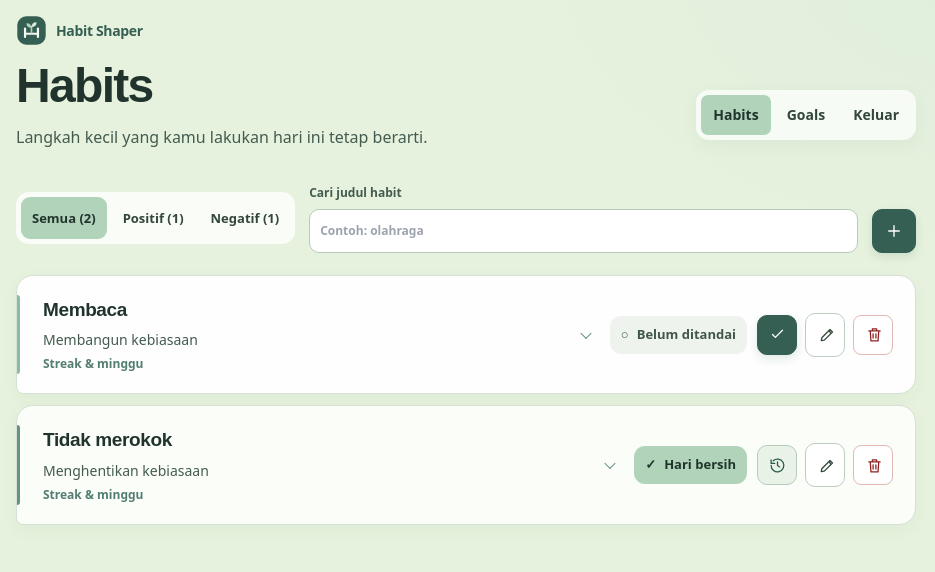
Test: today habit list › UI-05 undoes today's check-in and returns the habit to pending
Click the button named "Batalkan check-in: Tidak merokok". click: coordinates (777, 465)
box: top-left (757, 445), bottom-right (797, 485)
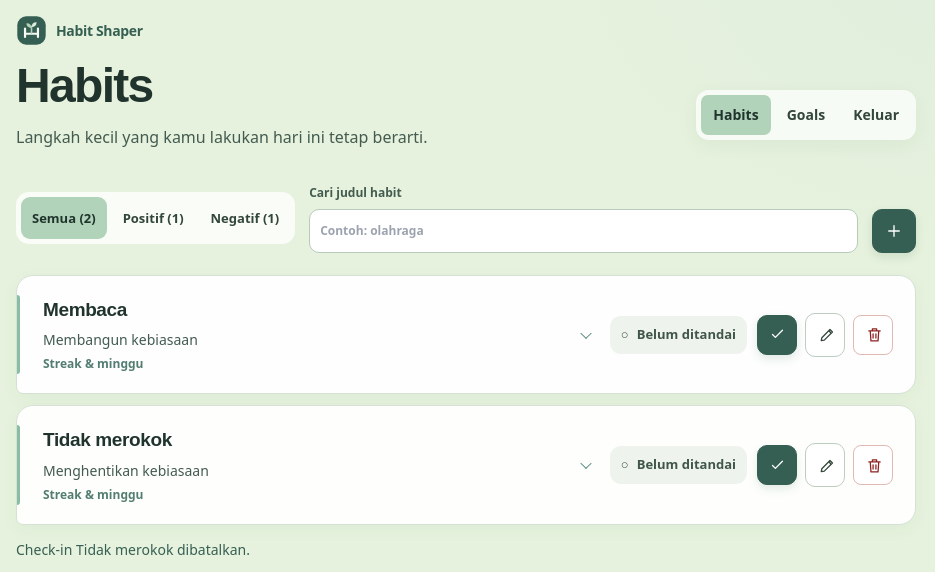
Expected: the button named "Tandai hari bersih: Tidak merokok" is shown, top-left (757, 445), bottom-right (797, 485)
